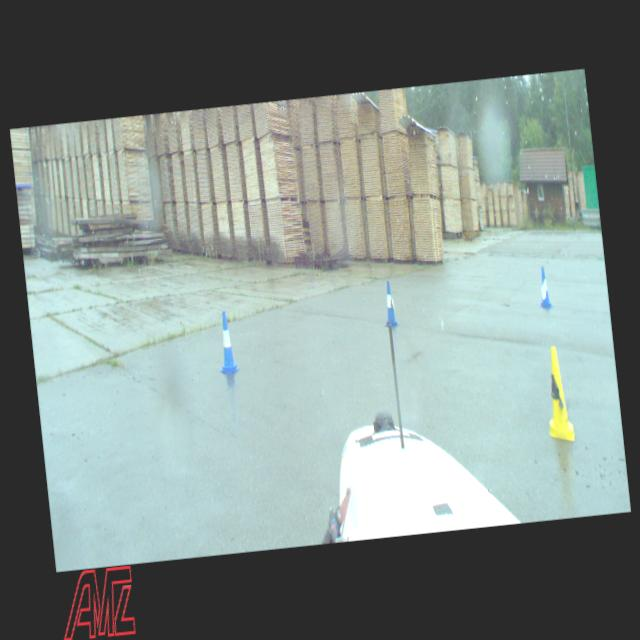blue_cone: (214, 310, 239, 374), (379, 280, 398, 327), (536, 266, 552, 308)
yellow_cone: (540, 346, 574, 442)
